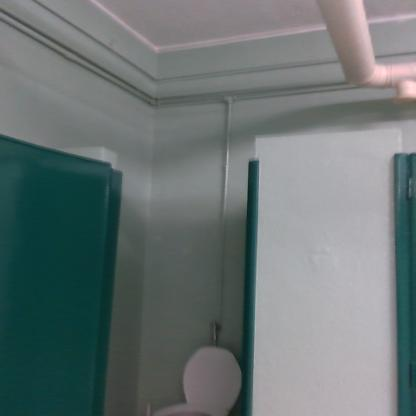closed: (0, 125, 268, 416)
